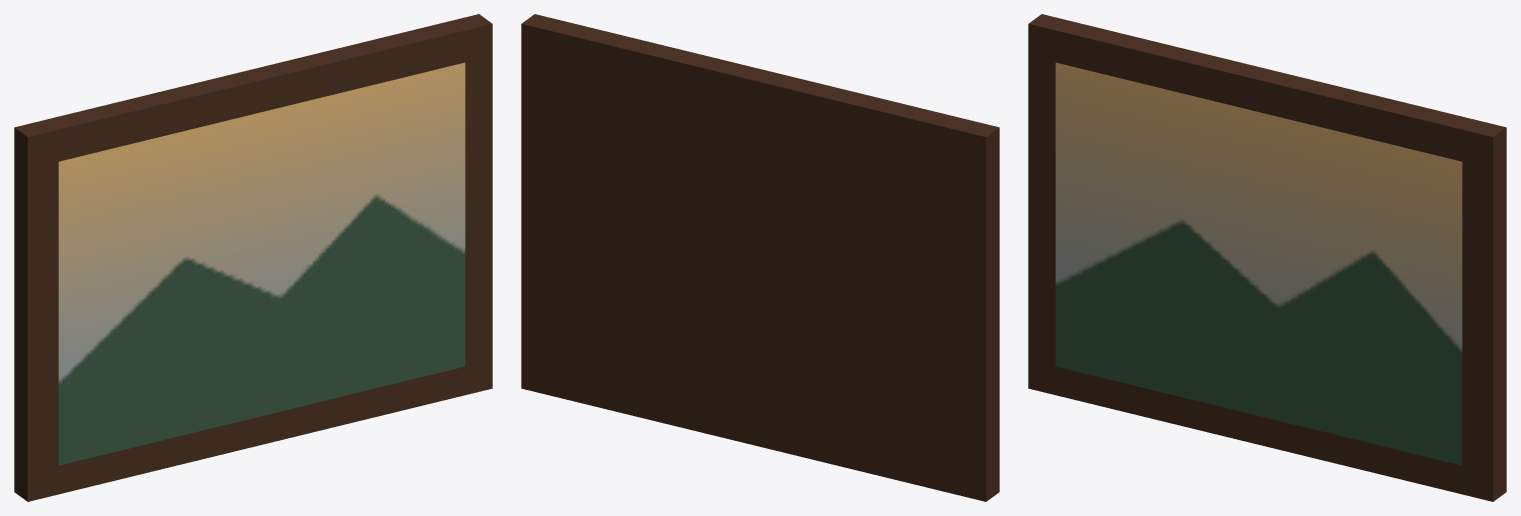
Rendered from painting.glb.
3 views of the same model, side by side, from view 1: azimuth 30°, elevation 25°; view 2: azimuth 150°, elevation 25°; view 3: azimuth 330°, elevation 25° (orthographic).
Visible parts, largest first — view 1: painting; view 2: painting; view 3: painting.
Part boxes in pixels (x1,y1,x2,y2): painting: [14, 14, 492, 501]; painting: [521, 14, 999, 501]; painting: [1028, 14, 1506, 501].
Bounding box in the file's own units: 0.8 × 0.6 × 0.045.
2 materials, 1 textured.
